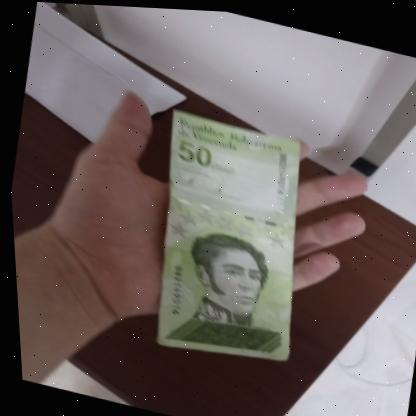fifty-front-vef: (125, 105, 327, 374)
